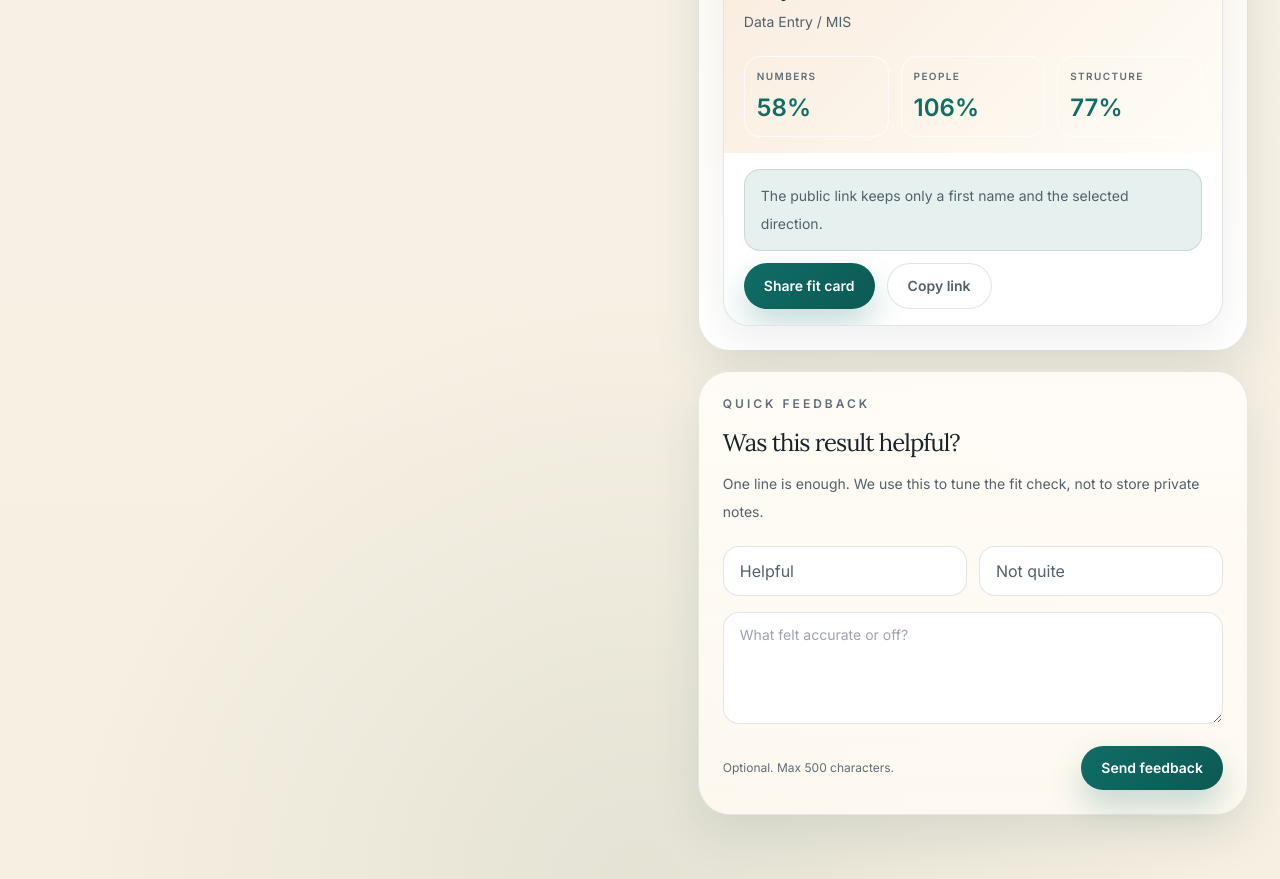
Test case: Results page feedback capture › shows an error when feedback cannot be saved
(page scrolled)
Click the button "Helpful" at (845, 571), box [723,546,967,596]
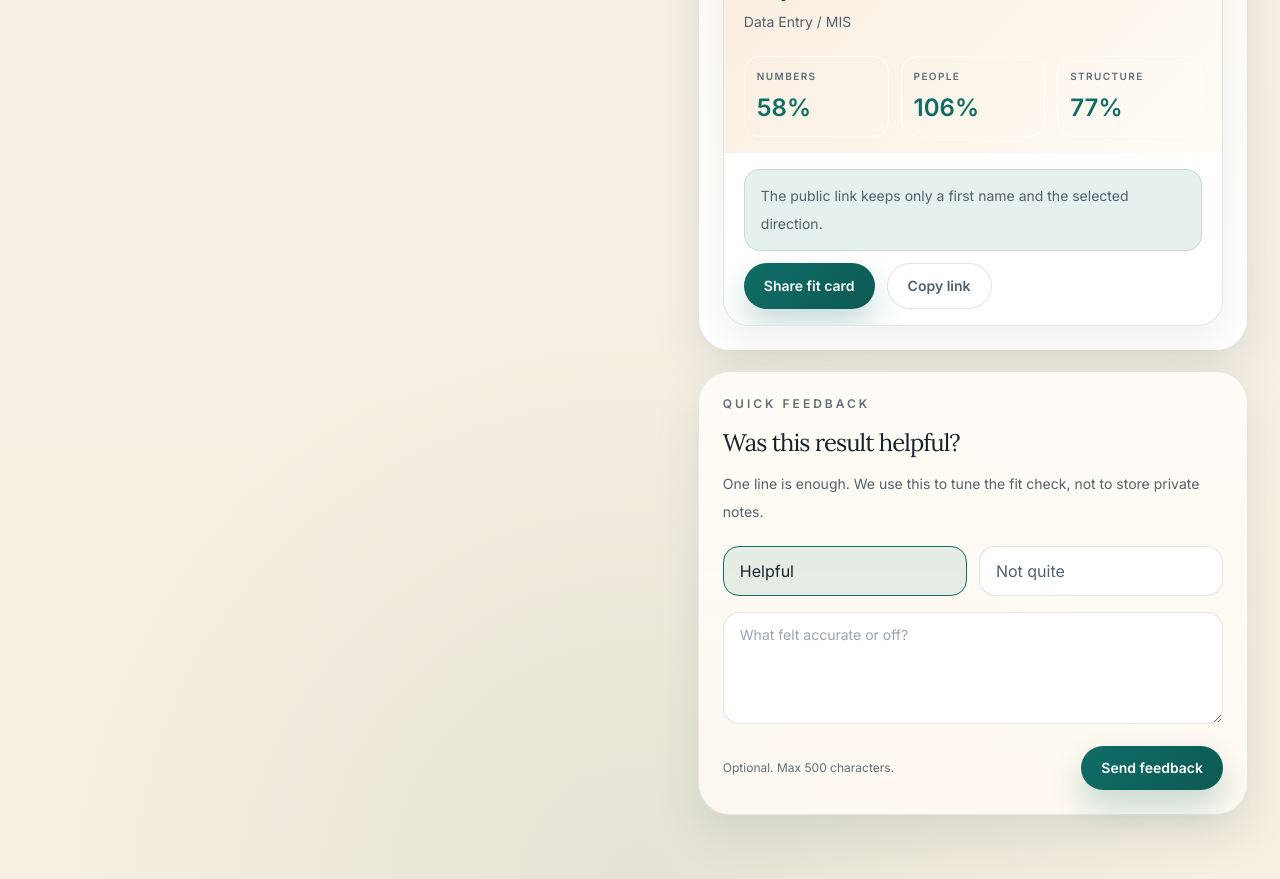
Click the button "Send feedback" at (1152, 768), box [1081,746,1223,790]
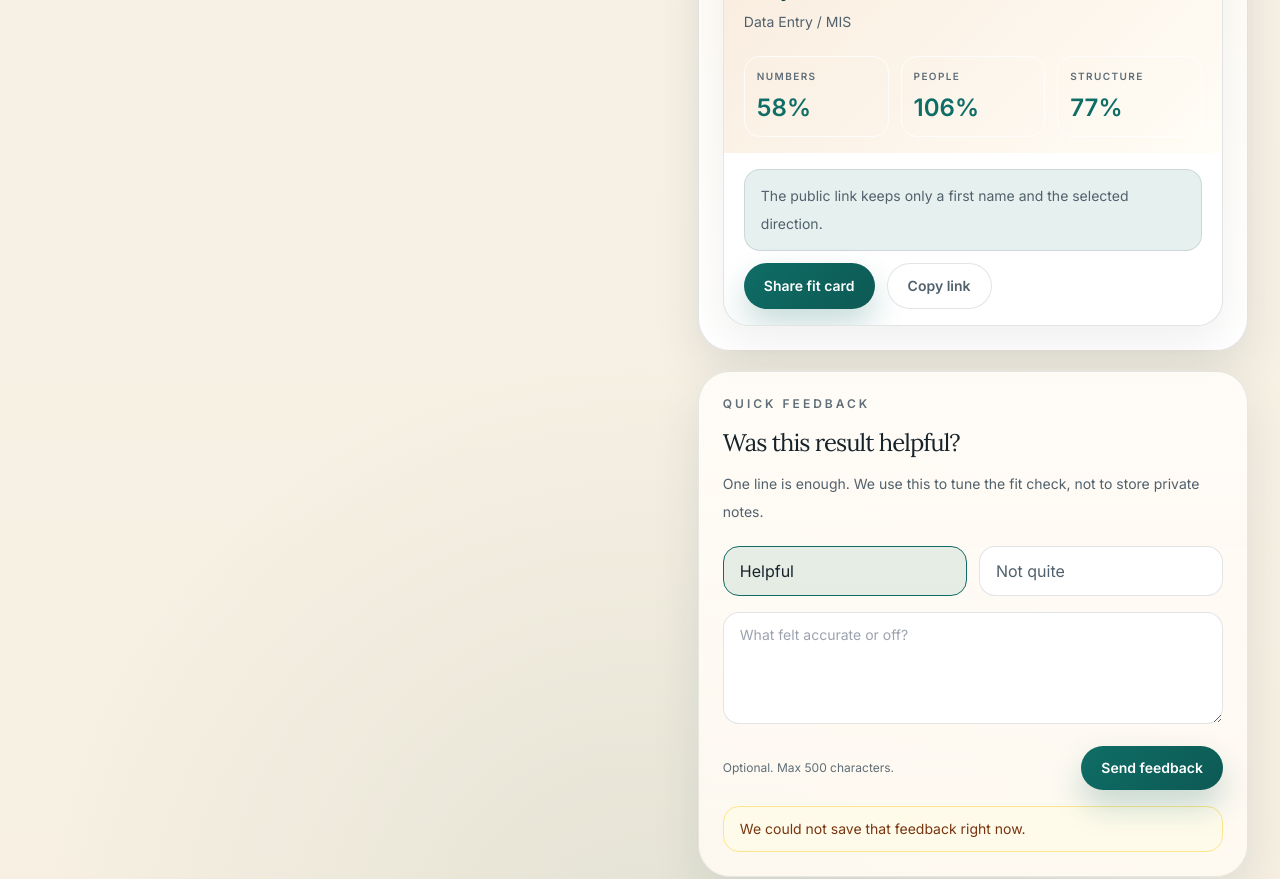
Expected: the text "We could not save that feedback right now." is shown, [723,806,1223,852]
